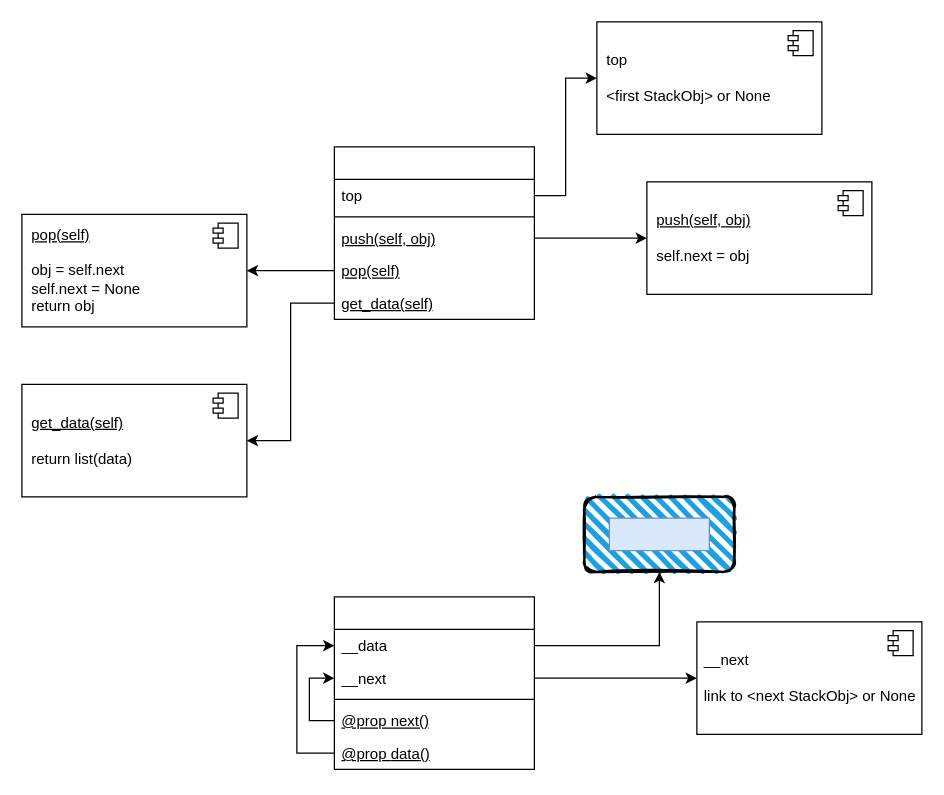
This 944x795 diagram has some shape labels left out. The box of each missing label's shape, as (x1, y1, x2, y2) in pixels:
Data: (608, 517, 709, 551)
Stack: (333, 146, 534, 319)
StackObj: (333, 596, 534, 769)
